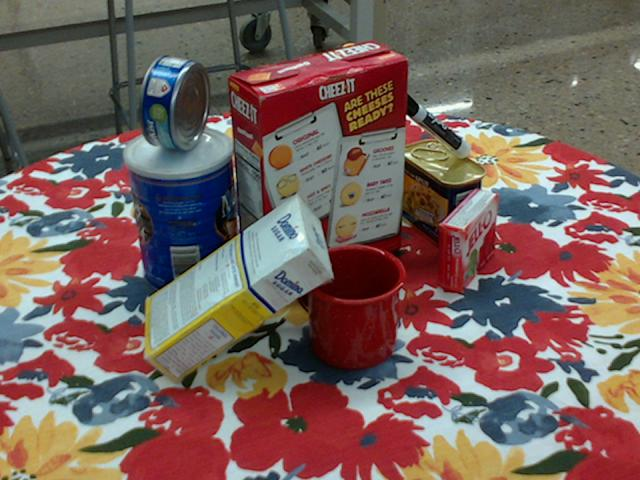cracker_box: (227, 41, 409, 297)
gelatin_box: (438, 188, 498, 293)
large_marker: (393, 91, 471, 157)
master_chef_can: (125, 126, 239, 299)
mug: (294, 242, 406, 369)
mustard_bottle: (322, 44, 386, 223)
potted_meat_can: (400, 139, 486, 248)
sugar_box: (142, 194, 333, 386)
tomato_soup_can: (237, 115, 300, 222)
tuna_fish_can: (139, 55, 208, 150)
